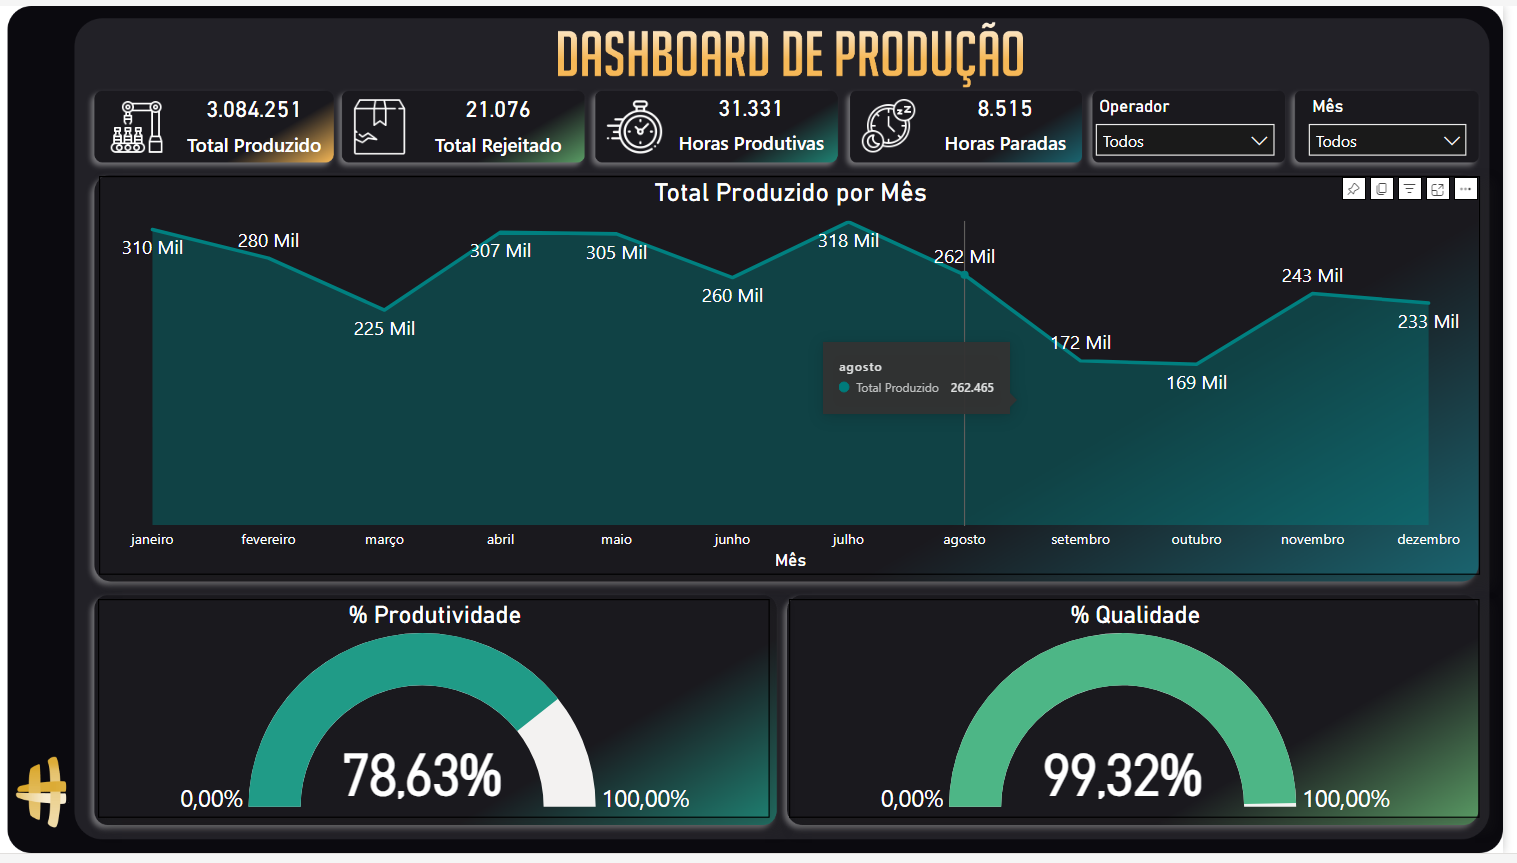

The dashboard page shown, as its layout file describes it:
{"tool":"powerbi","page":{"name":"Relatório de Produção","canvas":[1280,720],"ordinal":0},"visuals":[{"type":"card","fields":{"Values":["BaseProdução.Total Produzido"]},"box":[118.7,64.7,197.4,68],"z":0},{"type":"card","fields":{"Values":["BaseProdução.Total Rejeitado"]},"box":[326.8,64.7,197.4,68],"z":1000},{"type":"card","fields":{"Values":["BaseProdução.Horas Produtivas"]},"box":[541.5,63.6,197.4,66.9],"z":2000},{"type":"areaChart","fields":{"Category":["BaseProdução.Data Inicio.Variation.Hierarquia de datas.Mês"],"Y":["BaseProdução.Total Produzido"]},"box":[85.7,144.5,1173.7,338.6],"z":3000},{"type":"gauge","fields":{"Y":["BaseProdução.% Produtividade"]},"box":[85.2,503.7,570.6,185.5],"z":4000},{"type":"gauge","fields":{"Y":["BaseProdução.% Qualidade"]},"box":[672,503.7,586.8,185.5],"z":5000},{"type":"card","fields":{"Values":["BaseProdução.Horas Paradas"]},"box":[757.2,63.6,197.4,66.9],"z":6000},{"type":"slicer","fields":{"Values":["BaseProdução.Operador"]},"box":[923.3,72.3,171.5,69],"z":7000},{"type":"slicer","fields":{"Values":["BaseProdução.Data Inicio.Variation.Hierarquia de datas.Mês"]},"box":[1104.5,72.3,154.2,60.4],"z":8000},{"type":"image","box":[89.5,72.3,57.2,60.4],"z":9000},{"type":"image","box":[297.7,72.3,57.2,60.4],"z":10000},{"type":"image","box":[512.4,72.3,57.2,60.4],"z":11000},{"type":"image","box":[728.1,72.3,57.2,59.3],"z":12000}]}

Visuals, with their boxes in screenshot pixels (x1, y1, x2, y2), scaled from the page's 1280x720 canvas onto the 1517x863 screenshot:
card - BaseProdução.Total Produzido: <box>141,78,375,159</box>
card - BaseProdução.Total Rejeitado: <box>387,78,621,159</box>
card - BaseProdução.Horas Produtivas: <box>642,76,876,156</box>
areaChart - BaseProdução.Data Inicio.Variation.Hierarquia de datas.Mês x BaseProdução.Total Produzido: <box>102,173,1493,579</box>
gauge - BaseProdução.% Produtividade: <box>101,604,777,826</box>
gauge - BaseProdução.% Qualidade: <box>796,604,1492,826</box>
card - BaseProdução.Horas Paradas: <box>897,76,1131,156</box>
slicer - BaseProdução.Operador: <box>1094,87,1298,169</box>
slicer - BaseProdução.Data Inicio.Variation.Hierarquia de datas.Mês: <box>1309,87,1492,159</box>
image: <box>106,87,174,159</box>
image: <box>353,87,421,159</box>
image: <box>607,87,675,159</box>
image: <box>863,87,931,158</box>
